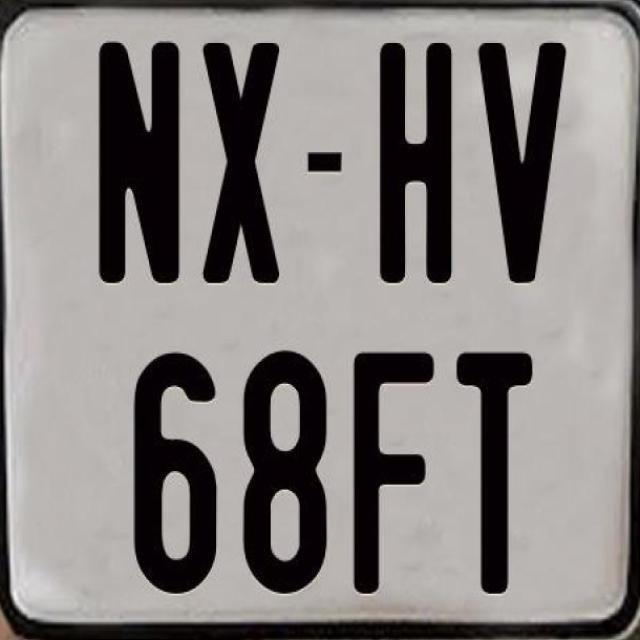license-plate: (6, 10, 632, 640)
